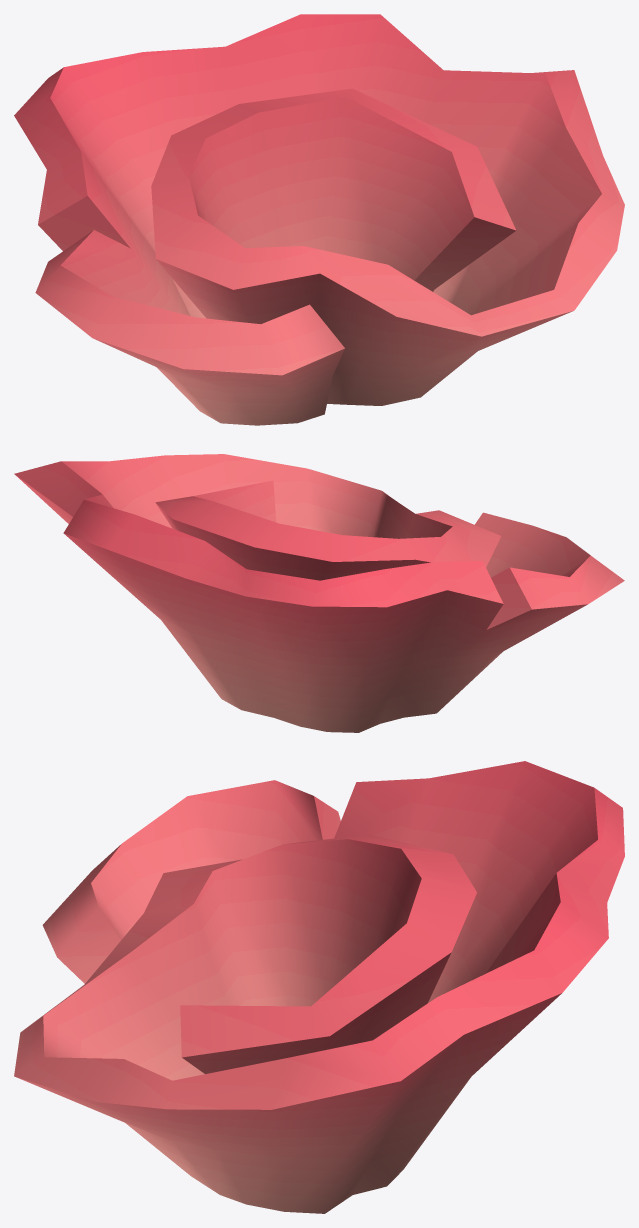
Rendered from CoralJB.fbx.
The picture shows the model from 3 angles, top to bottom: view 1: azimuth 30°, elevation 25°; view 2: azimuth 150°, elevation 25°; view 3: azimuth 270°, elevation 25°; orthographic projection. The views are drawn at different scales.
Visible parts, largest first — view 1: CoralJB; view 2: CoralJB; view 3: CoralJB.
Boxes of the visible parts, bbox=[...] form: CoralJB: bbox=[14, 14, 624, 425]; CoralJB: bbox=[14, 454, 624, 732]; CoralJB: bbox=[14, 761, 624, 1213].
Size of the model in its own units: 103 by 42.63 by 79.58.
1 material, 1 textured.
